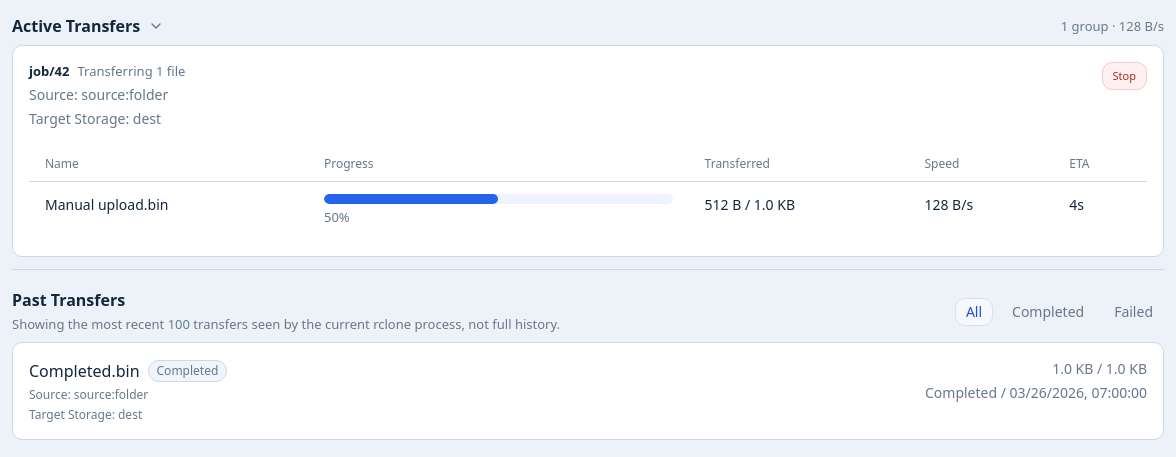
Test: JobsPage › collapses the active transfers section
The image size is (1176, 457).
Click the button "Active Transfers".
click(88, 26)  # box [12,16,164,37]
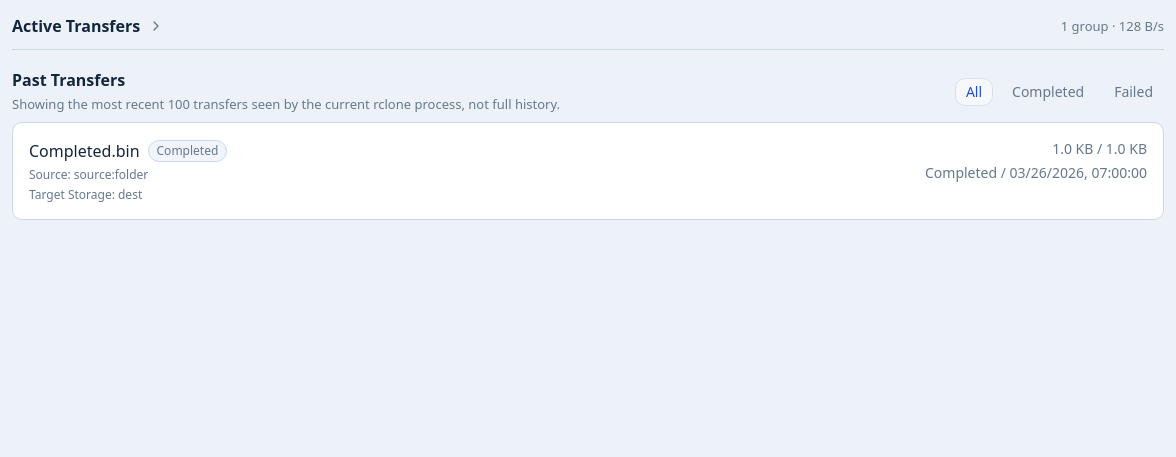
expect the text "1 group · 128 B/s" is shown: met, box [1061,17,1164,36]
expect the text "Manual upload.bin" is gone: met
